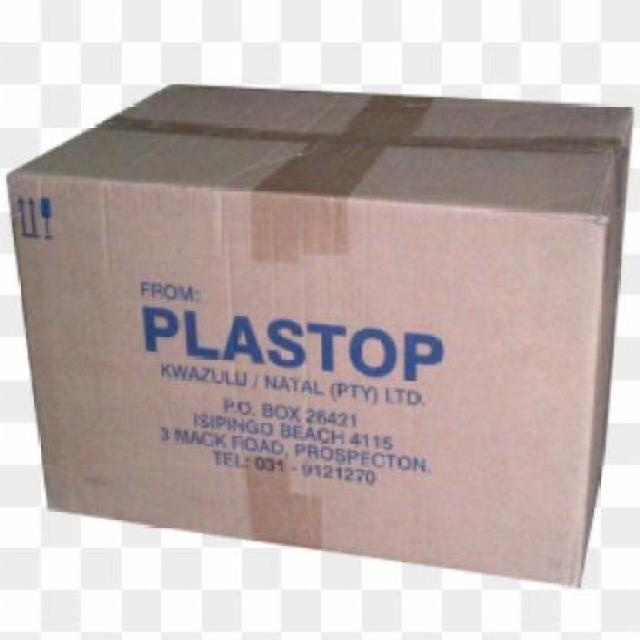box: (2, 75, 640, 589)
